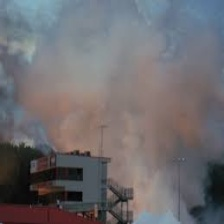smoke: (32, 19, 201, 145)
